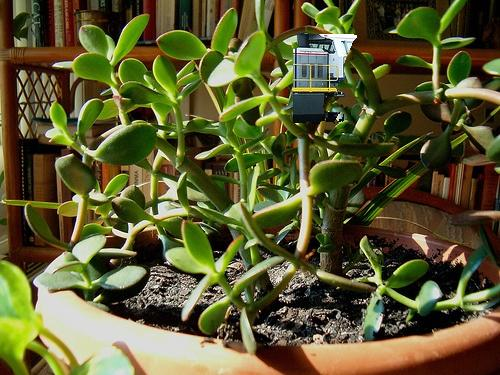tampered: (294, 34, 357, 124)
